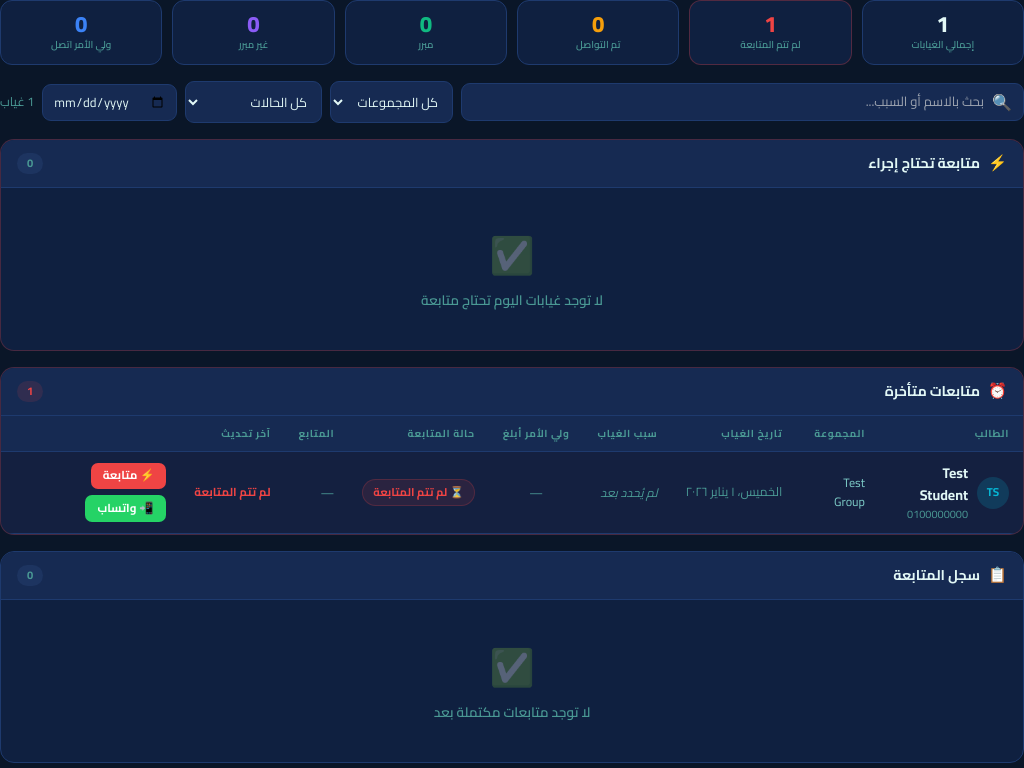
AbsenceFollowup — server-truth write path › create failure: leaves local state untouched and shows the real server error
Click the button "⚡ متابعة": (128, 476) [91,463,166,489]
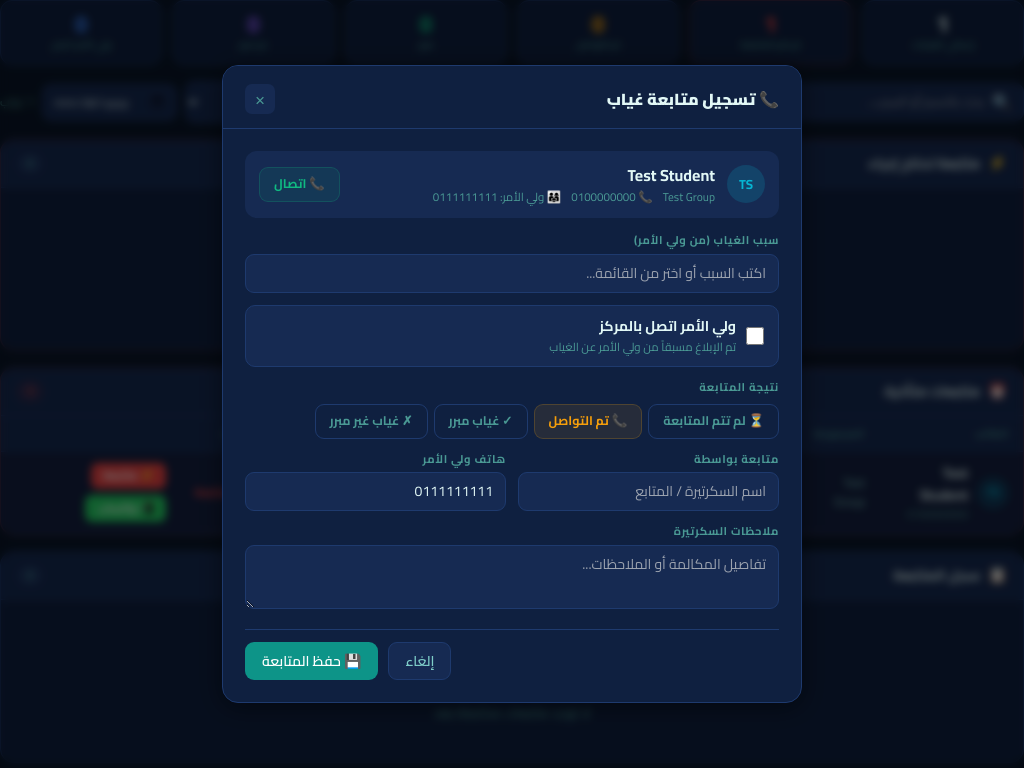
Click the button "💾 حفظ المتابعة": (312, 661) [245,642,378,680]
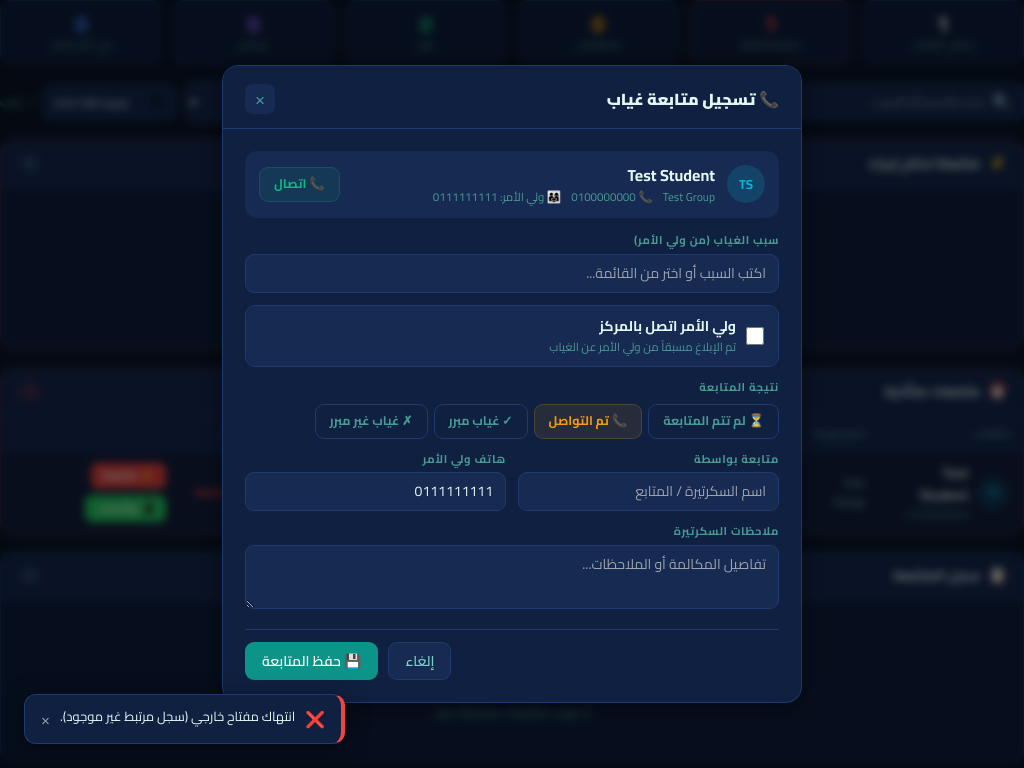
Result: the text "انتهاك مفتاح خارجي (سجل مرتبط غير موجود)." is shown at [60,707,295,726]
